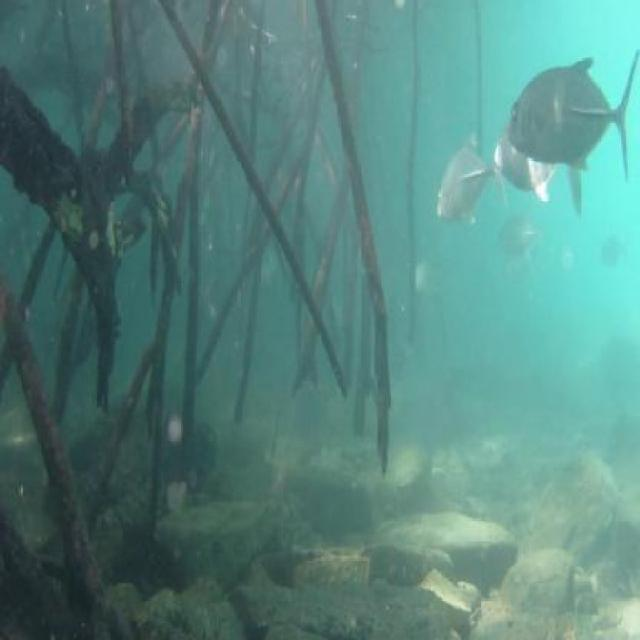Caranx_sexfasciatus_juvenile: (506, 45, 640, 178), (491, 91, 594, 226), (434, 118, 500, 242), (486, 245, 548, 297), (504, 207, 558, 256)
